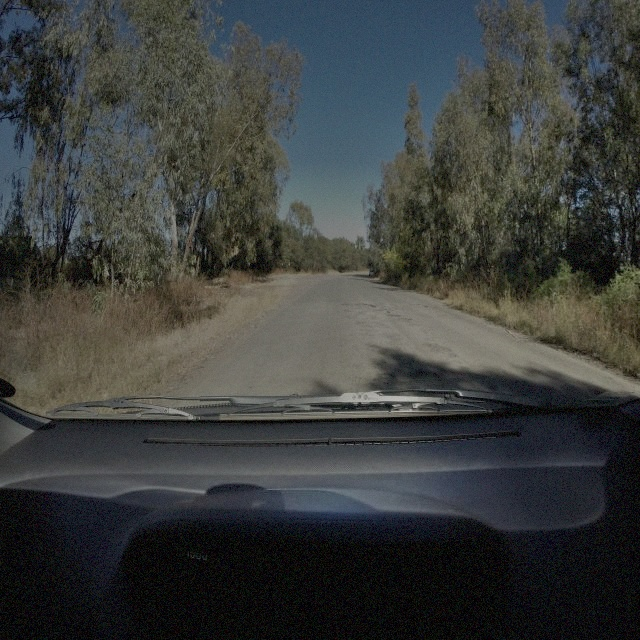pothole: (427, 344, 456, 360), (358, 300, 375, 309), (377, 310, 390, 316), (400, 316, 411, 323)
